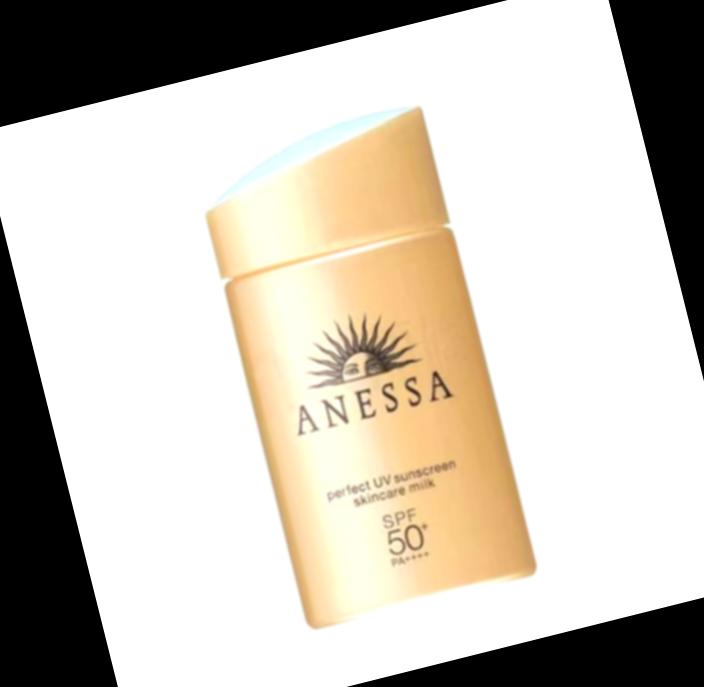cosmetic: (192, 100, 539, 625)
